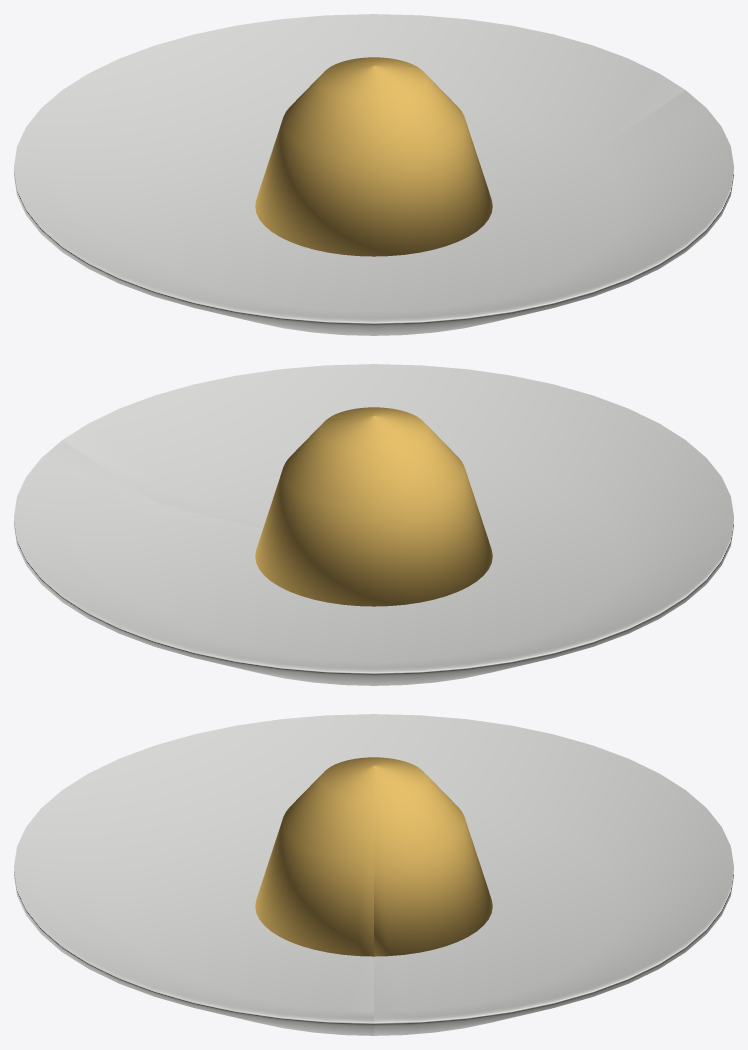
The model's file is pudim.glb.
The picture shows the model from 3 angles, top to bottom: view 1: azimuth 30°, elevation 25°; view 2: azimuth 150°, elevation 25°; view 3: azimuth 270°, elevation 25°; orthographic projection.
Visible parts, largest first — view 1: pudim; view 2: pudim; view 3: pudim.
Boxes of the visible parts, x1=… form: pudim: x1=14, y1=14, x2=733, y2=335; pudim: x1=14, y1=364, x2=733, y2=685; pudim: x1=14, y1=714, x2=733, y2=1035.
Bounding box in the file's own units: 0.26 × 0.068 × 0.26.
